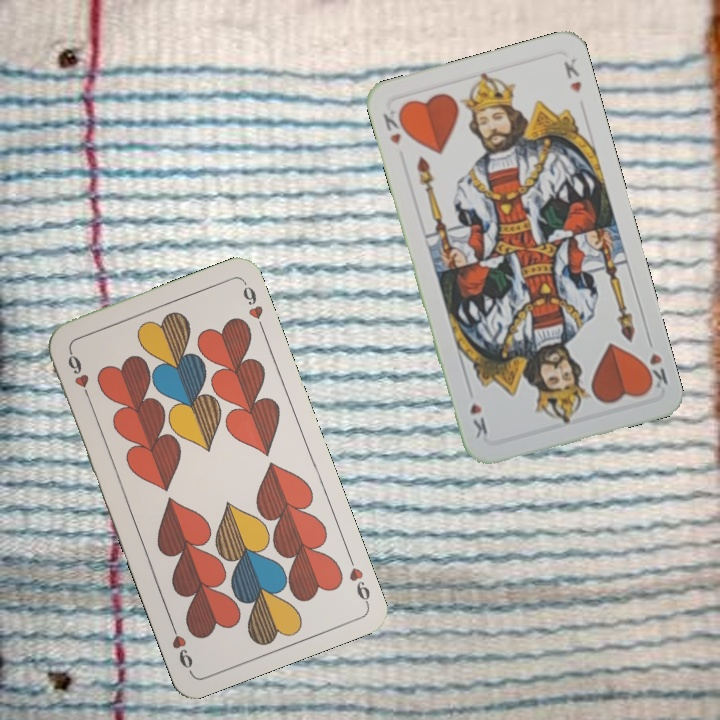H9: (63, 345, 93, 402), (343, 550, 373, 607)
HK: (638, 333, 671, 392), (378, 102, 410, 148)
